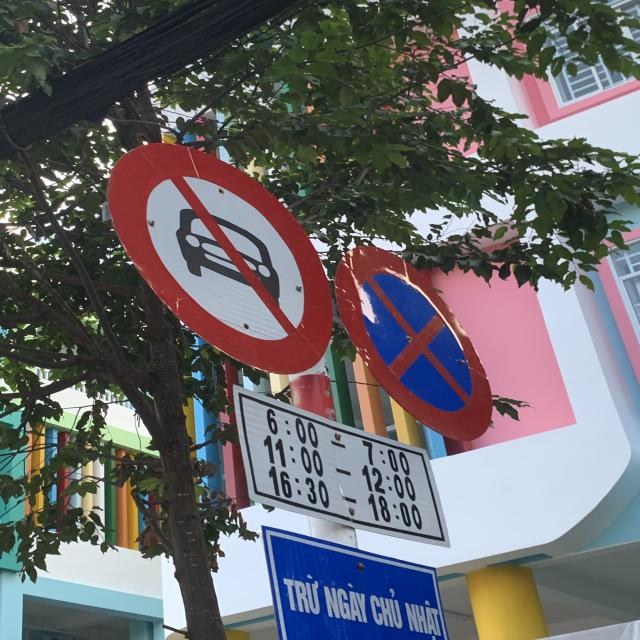Cam_Dung_Va_Dau_Xe: (334, 243, 496, 442)
Cam_O_To: (104, 141, 334, 375)
